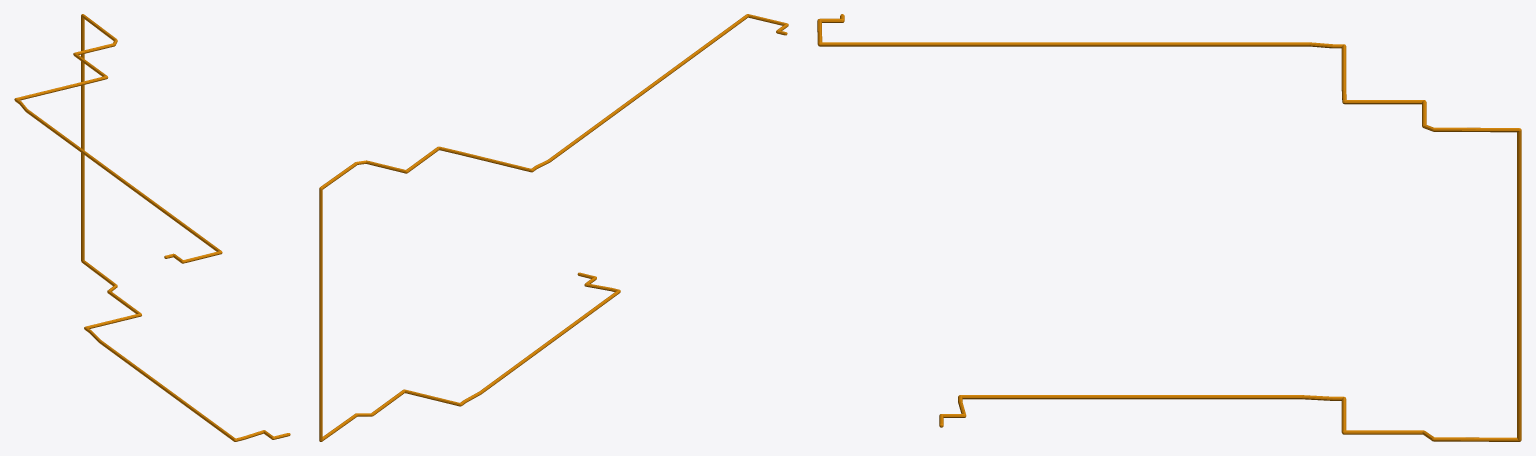
3 views of the same model, side by side, from view 1: azimuth 30°, elevation 25°; view 2: azimuth 150°, elevation 25°; view 3: azimuth 270°, elevation 25° (orthographic). The views are drawn at different scales.
Bounding box in the file's own units: 1205 × 1520 × 3092.
